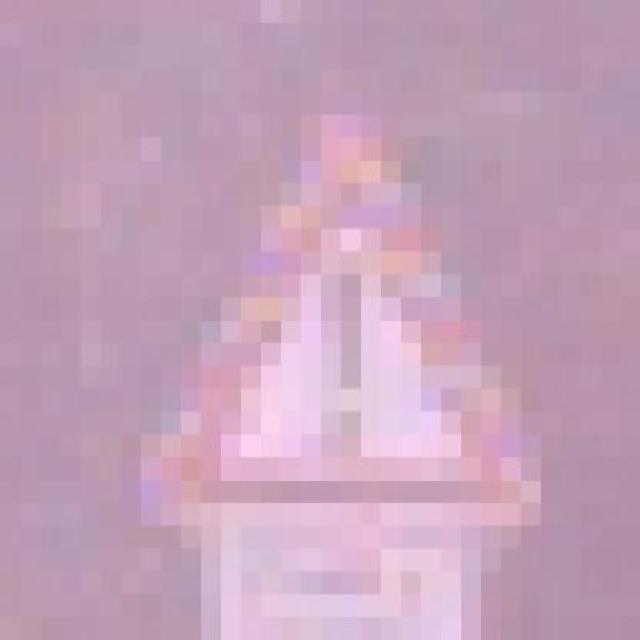Attention Please-: (120, 69, 580, 572)
